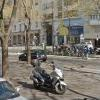Motorcycle: (21, 59, 72, 98)
